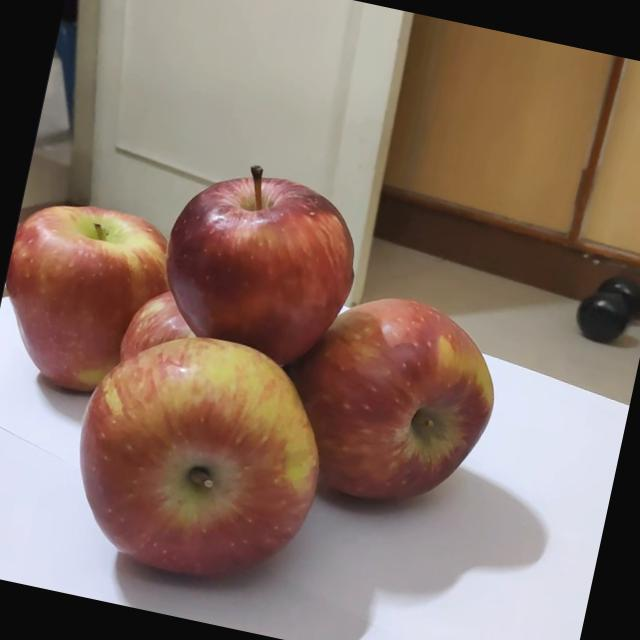apple: (23, 289, 314, 578), (252, 263, 512, 526), (126, 136, 364, 362), (11, 176, 185, 378)
